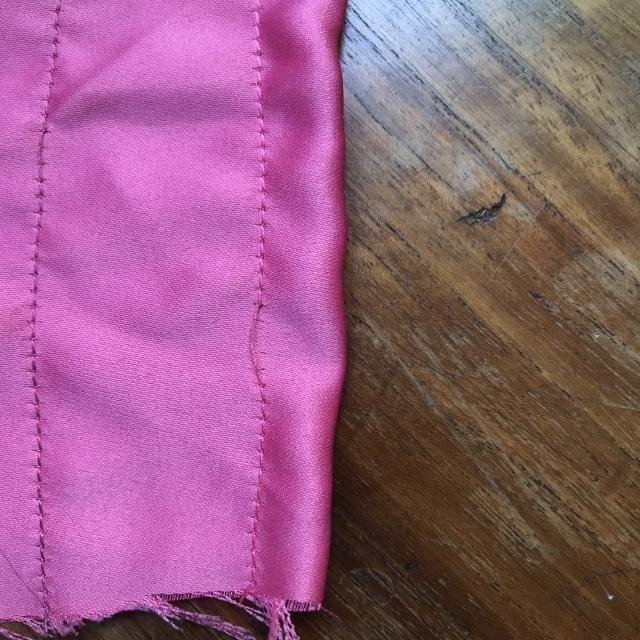skip: (226, 288, 282, 394)
